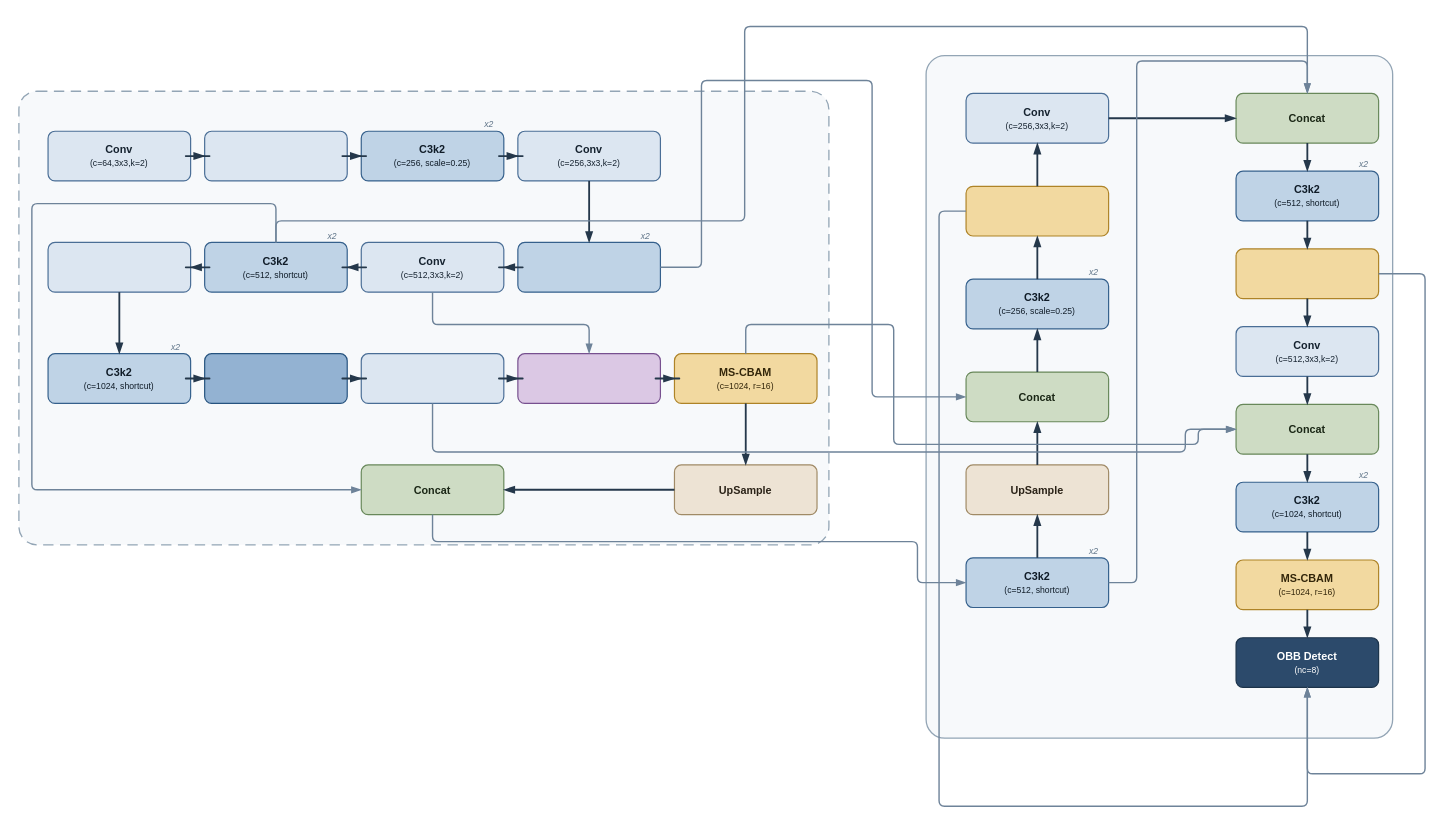
Image size: 1454x835. Some labels were removed from this diagram. The shapes that lost their labels are listed below. From the top down, each one's box as (x1, y1, x2, y2) in pixels, then its label:
(204, 130, 347, 181): Conv (c=128,3x3,k=2)
(965, 185, 1109, 236): MS-CBAM (c=256, r=16)
(47, 241, 191, 292): Conv (c=1024,3x3,k=2)
(517, 241, 661, 292): C3k2 (c=512, scale=0.25)
(1235, 248, 1379, 299): MS-CBAM (c=512, r=16)
(18, 90, 829, 545): Backbone
(204, 353, 347, 403): SPPF (c=1024, k=5)
(360, 353, 504, 403): Conv (c=1024, 1x1)
(517, 353, 661, 403): Cross-Attention (h=8, c=1024)
(925, 54, 1393, 738): Neck and head
